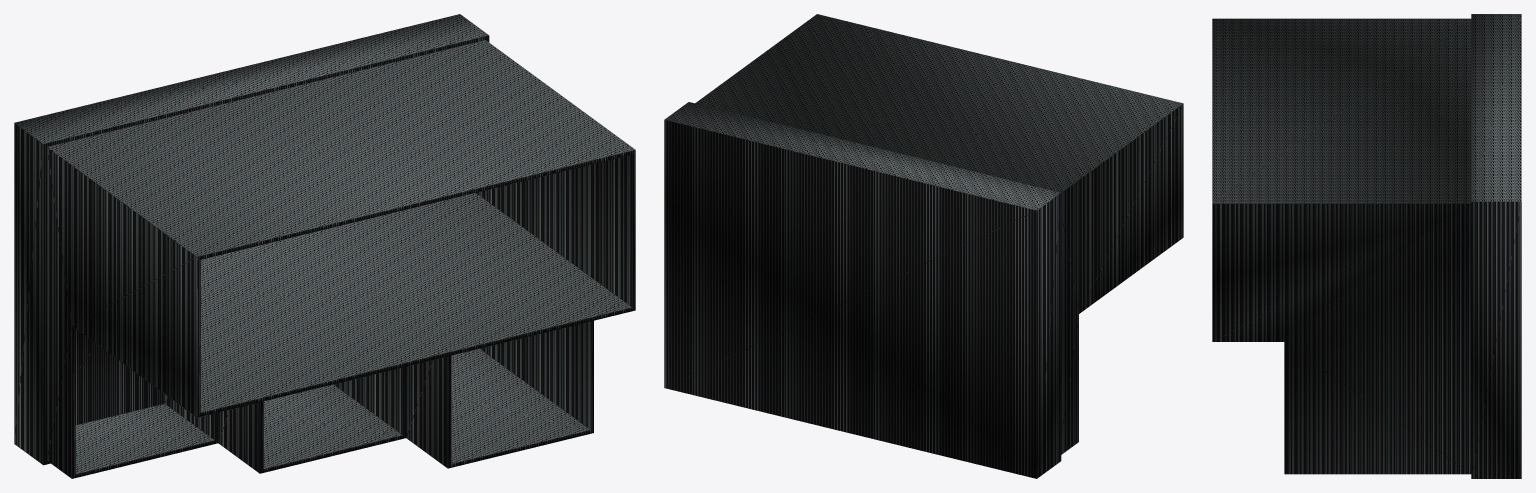
The picture shows the model from 3 angles, left to right: view 1: azimuth 30°, elevation 25°; view 2: azimuth 150°, elevation 25°; view 3: azimuth 270°, elevation 25°; orthographic projection. The views are drawn at different scales.
Size of the model in its own units: 0.247 by 0.17 by 0.172.
